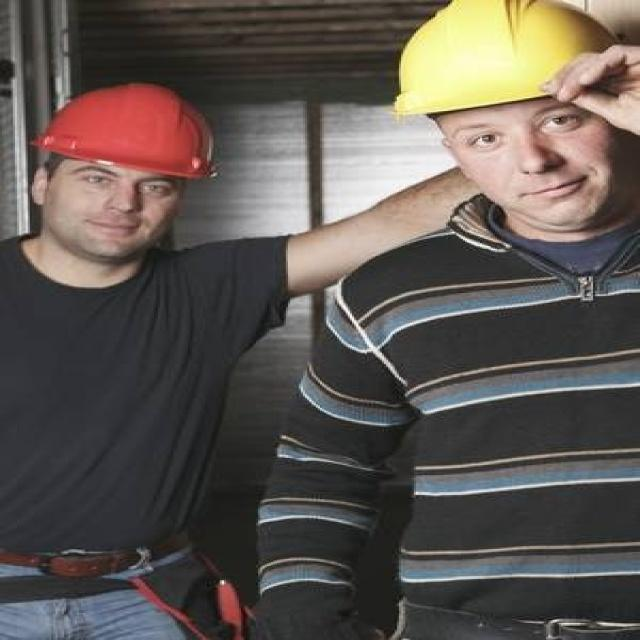helmet: (393, 3, 632, 313), (37, 112, 218, 349)
